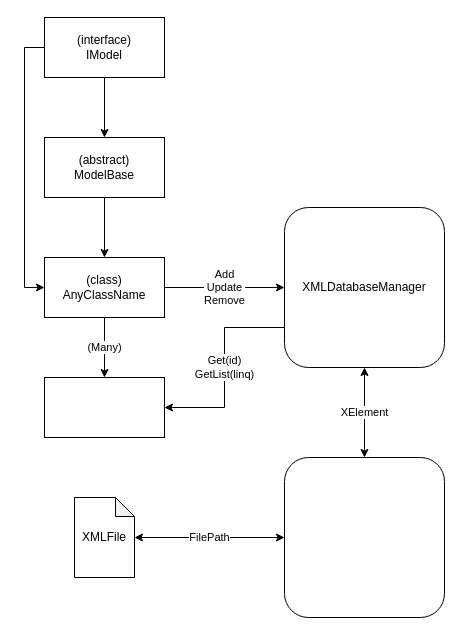
Image size: 462x635. Some labels were removed from this diagram. The shapes that lost their labels are listed below. From the top down, each one's box as (x1, y1, x2, y2) in pixels, then its label:
(44, 376, 164, 438): (IEnumerable) AnyClassName
(284, 456, 444, 618): XMLDatabaseFileManager
